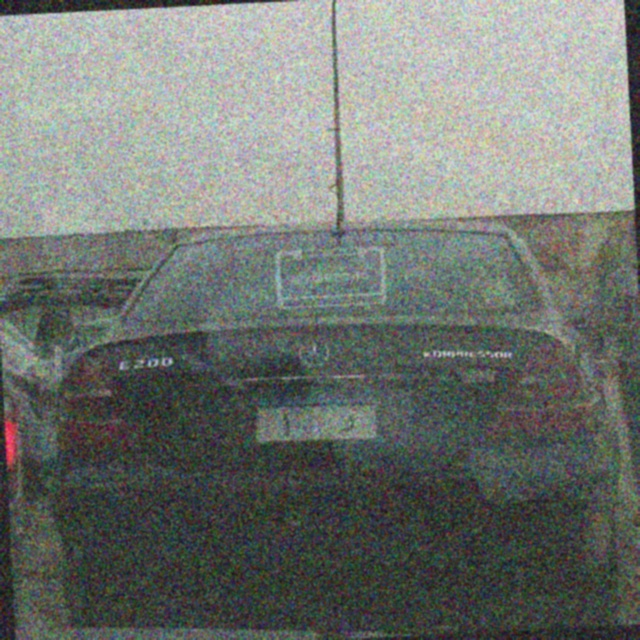License Plate: (249, 373, 382, 450)
